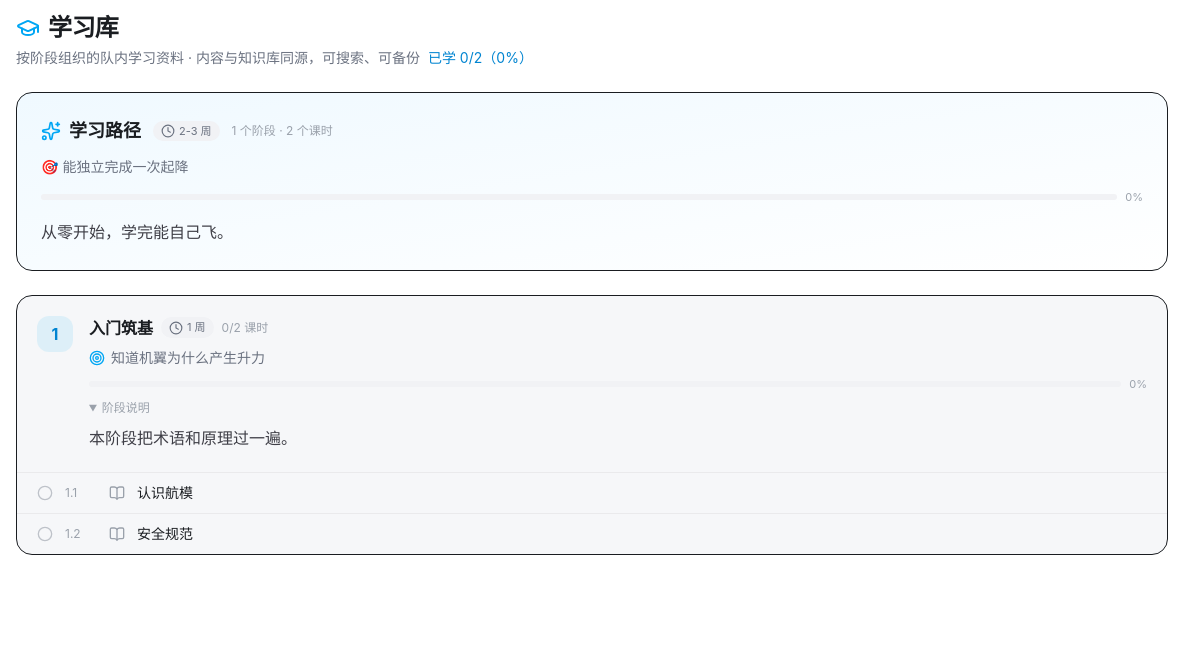
Test: 学习库页 › 阅读页也能标记完成
Click the button "认识航模". click: [165, 492]
box: [109,483,1147,503]
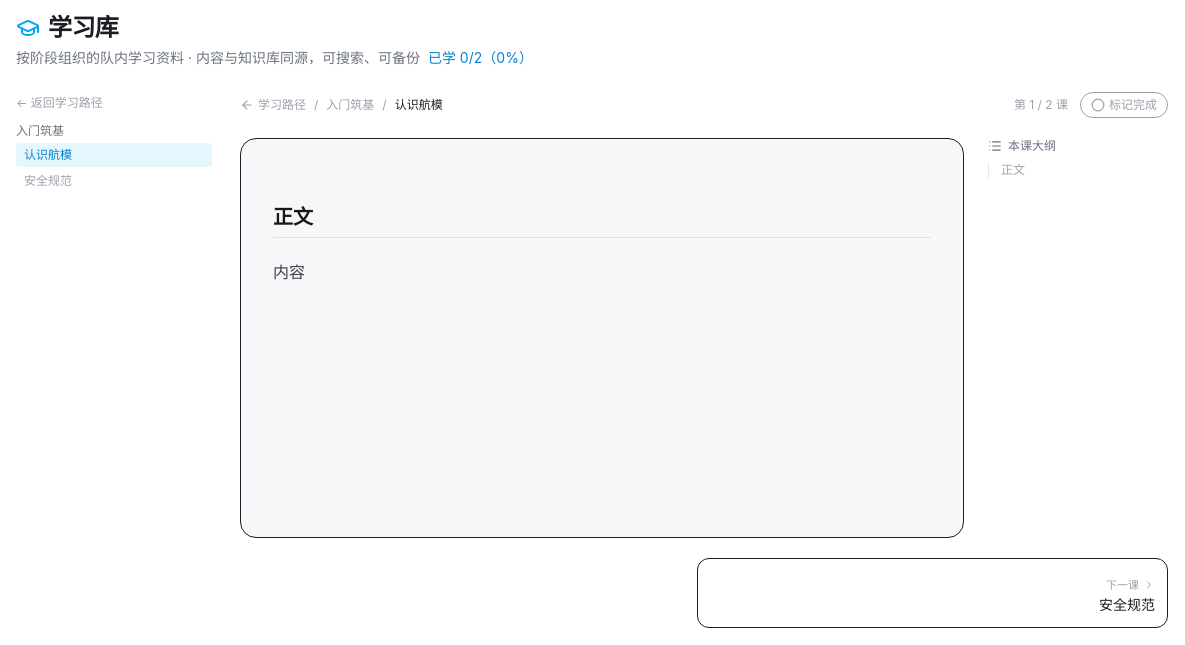
Click the button "标记完成". click: [1124, 105]
box: [1080,92,1168,118]
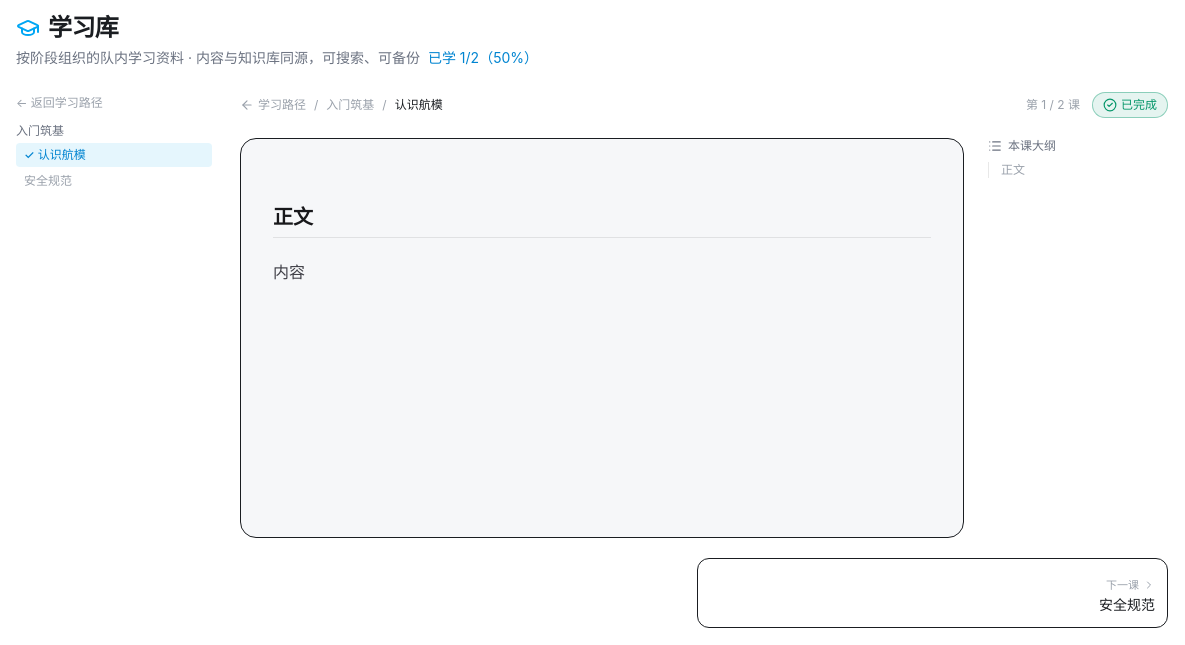
Now the button "已完成" is shown, box [1092,92,1168,118]
